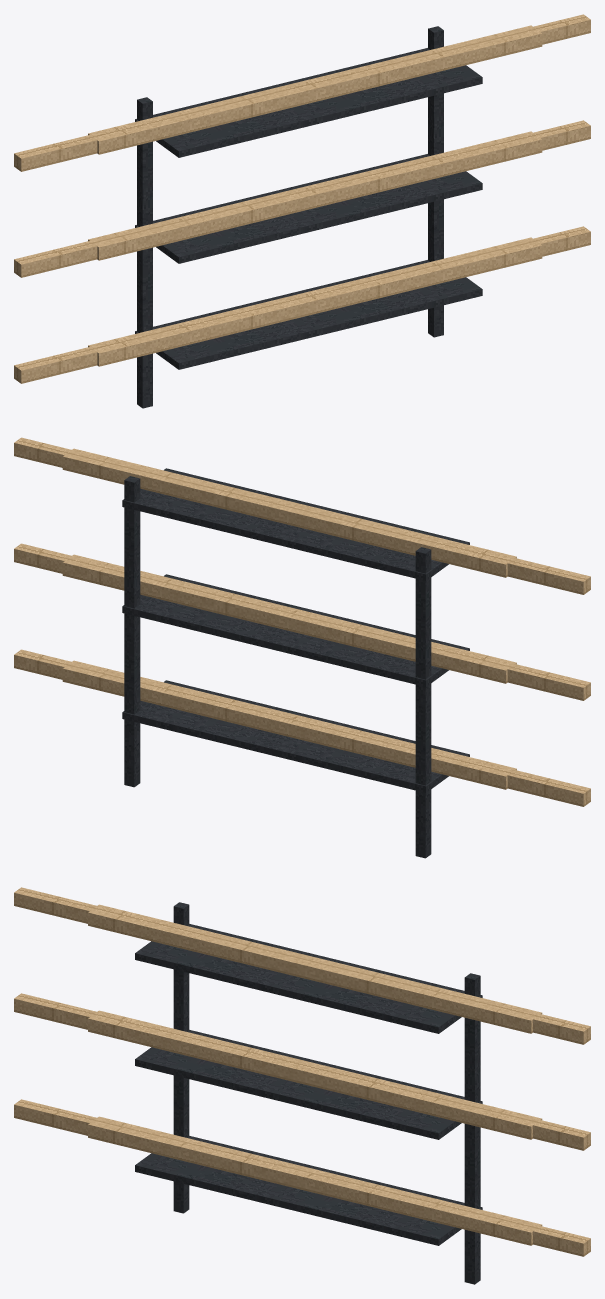
The picture shows the model from 3 angles, top to bottom: view 1: azimuth 30°, elevation 25°; view 2: azimuth 150°, elevation 25°; view 3: azimuth 330°, elevation 25°; orthographic projection.
Visible parts, largest first — view 1: Decor_lumber_rack; view 2: Decor_lumber_rack; view 3: Decor_lumber_rack.
Part boxes in pixels (x1,y1,x2,y2): Decor_lumber_rack: [14, 14, 590, 408]; Decor_lumber_rack: [14, 437, 590, 858]; Decor_lumber_rack: [14, 887, 590, 1284].
Size of the model in its own units: 4.5 by 2.3 by 0.6.
Materials: 2 (2 with a texture image).
